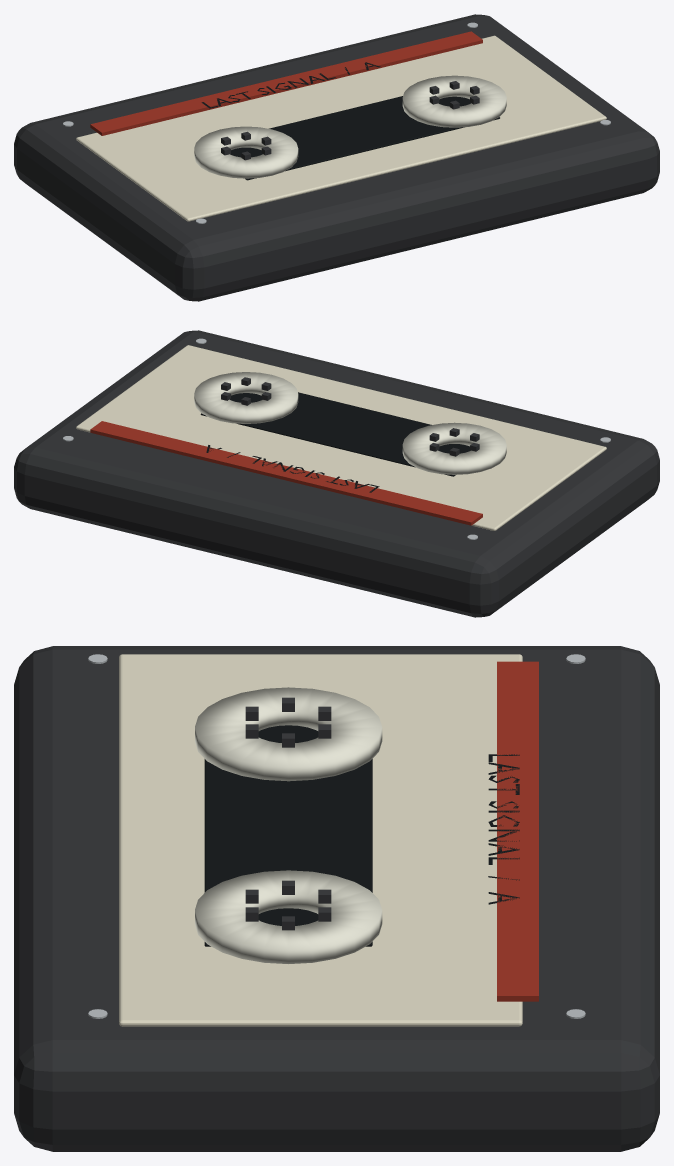
File: cassette.glb
3 views of the same model, one above another, from view 1: azimuth 30°, elevation 25°; view 2: azimuth 150°, elevation 25°; view 3: azimuth 270°, elevation 25° (orthographic). The views are drawn at different scales.
Visible parts, largest first — view 1: cassette; view 2: cassette; view 3: cassette.
Part boxes in pixels (bbox=[...]): cassette: bbox=[14, 14, 659, 301]; cassette: bbox=[14, 330, 659, 617]; cassette: bbox=[14, 646, 659, 1151].
Size of the model in its own units: 0.31 by 0.049 by 0.2.
